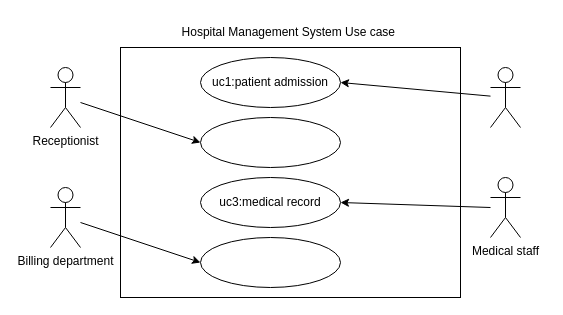
This 563x315 diagram has some shape labels left out. Each missing label, with the centre of its shape:
Front desk staff: point 505,97
uc2:appointment: point 270,142
uc4:billing: point 270,262
